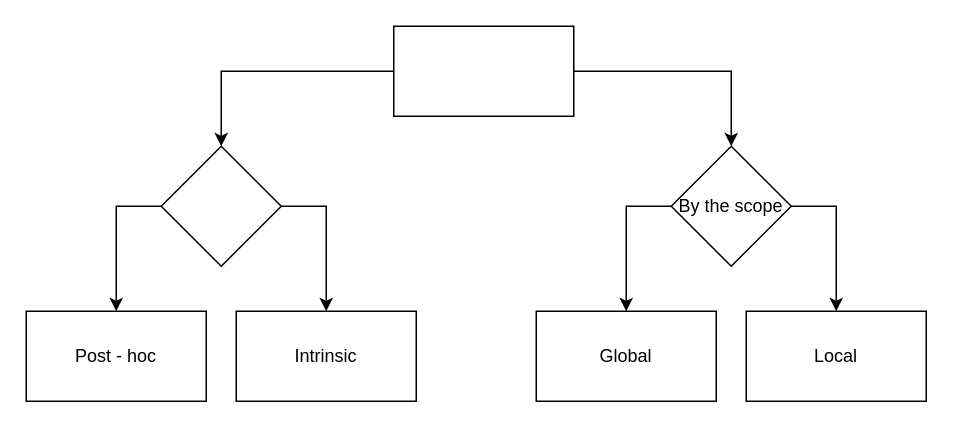
Image size: 953x428. Some labels were removed from this diagram. Each missing label, with the centre of its shape:
"By the interpretation time" belongs at (x=220, y=205).
"XAI" belongs at (x=483, y=70).
